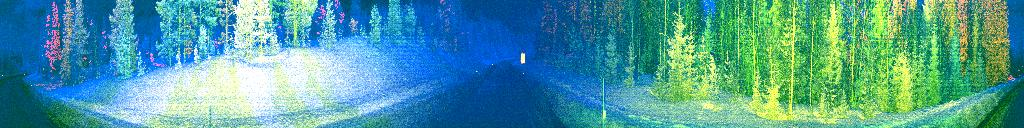pole: (599, 75, 608, 128), (207, 103, 213, 128)
